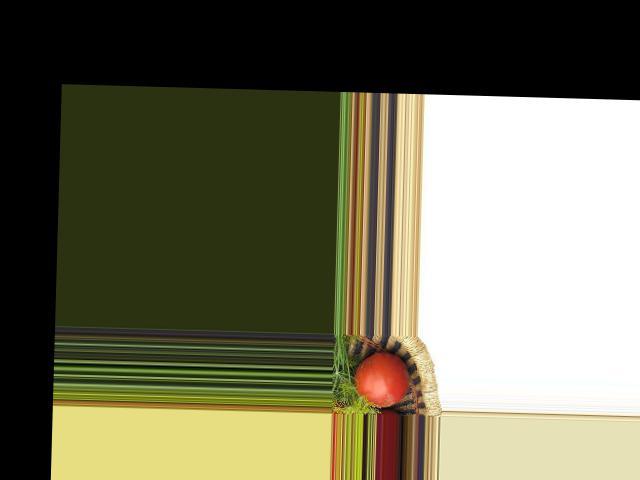tomato: (352, 351, 410, 407)
